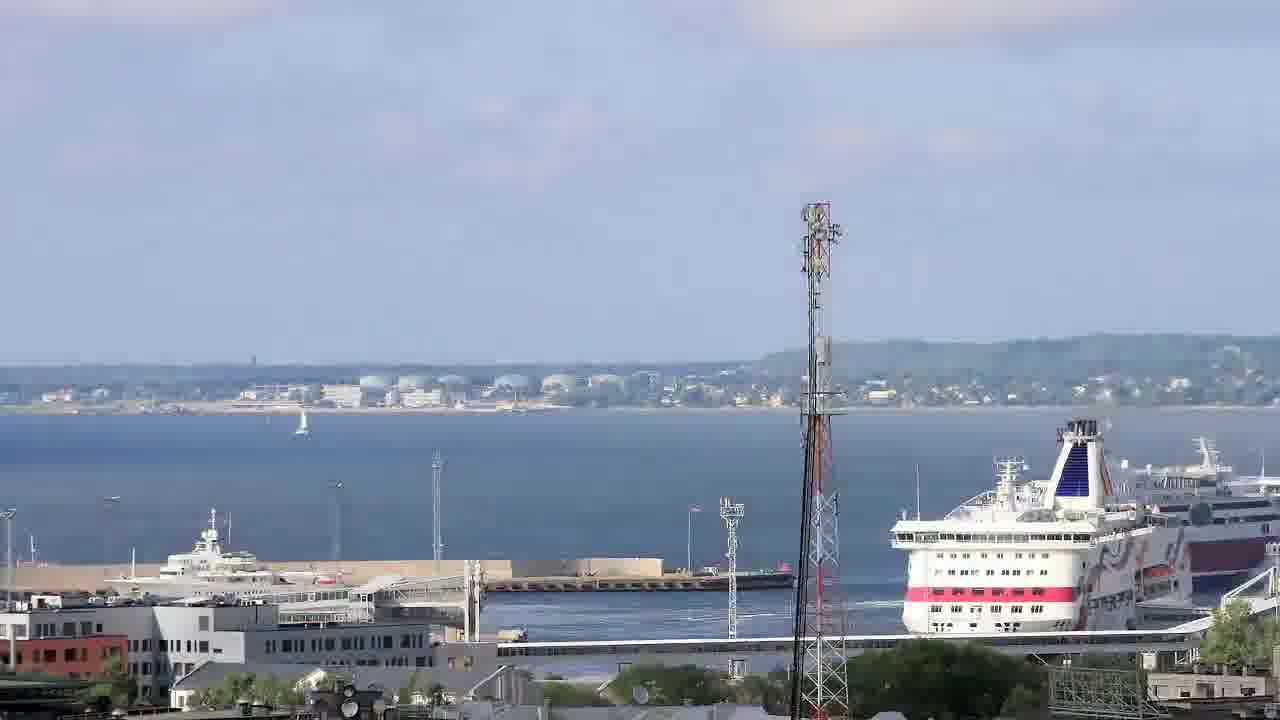type-2: (276, 392, 348, 450)
type-3: (868, 415, 1225, 638), (89, 518, 402, 620), (1097, 445, 1279, 603)
